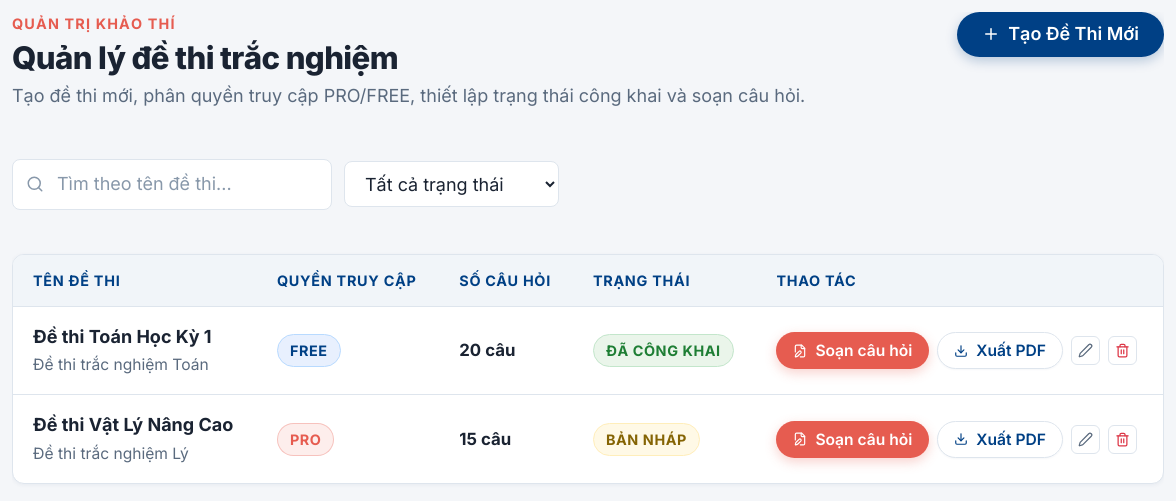
Test: ExamsManagementPage - Export Exam PDF › displays "Bạn không có quyền xuất PDF." on 401 and 403 errors
Expected: the text "Đề thi Toán Học Kỳ 1" is shown, left=33, top=326, right=212, bottom=347
What coordinates should you click on to do the following:
click the button "Xuất PDF" in the row of "Đề thi Toán Học Kỳ 1"
I would click on:
 (1000, 351)
Its box is left=937, top=332, right=1063, bottom=369.
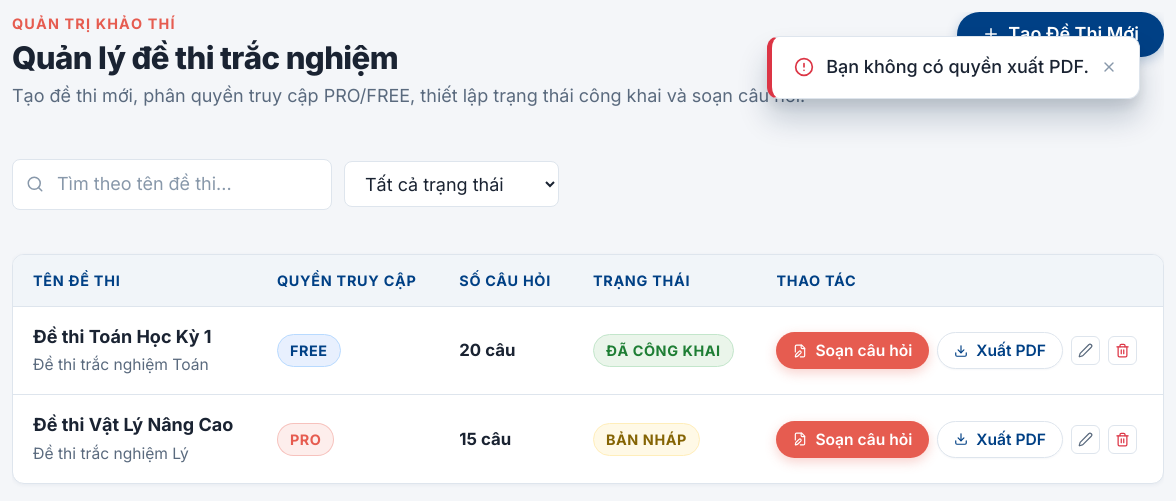
Expected: the text "Bạn không có quyền xuất PDF." is shown, left=826, top=53, right=1089, bottom=82
